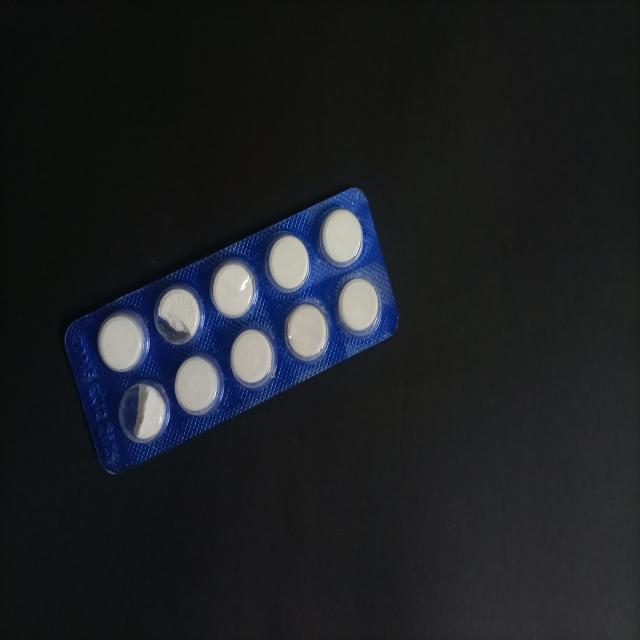defect: (152, 279, 207, 348), (117, 380, 172, 446)
